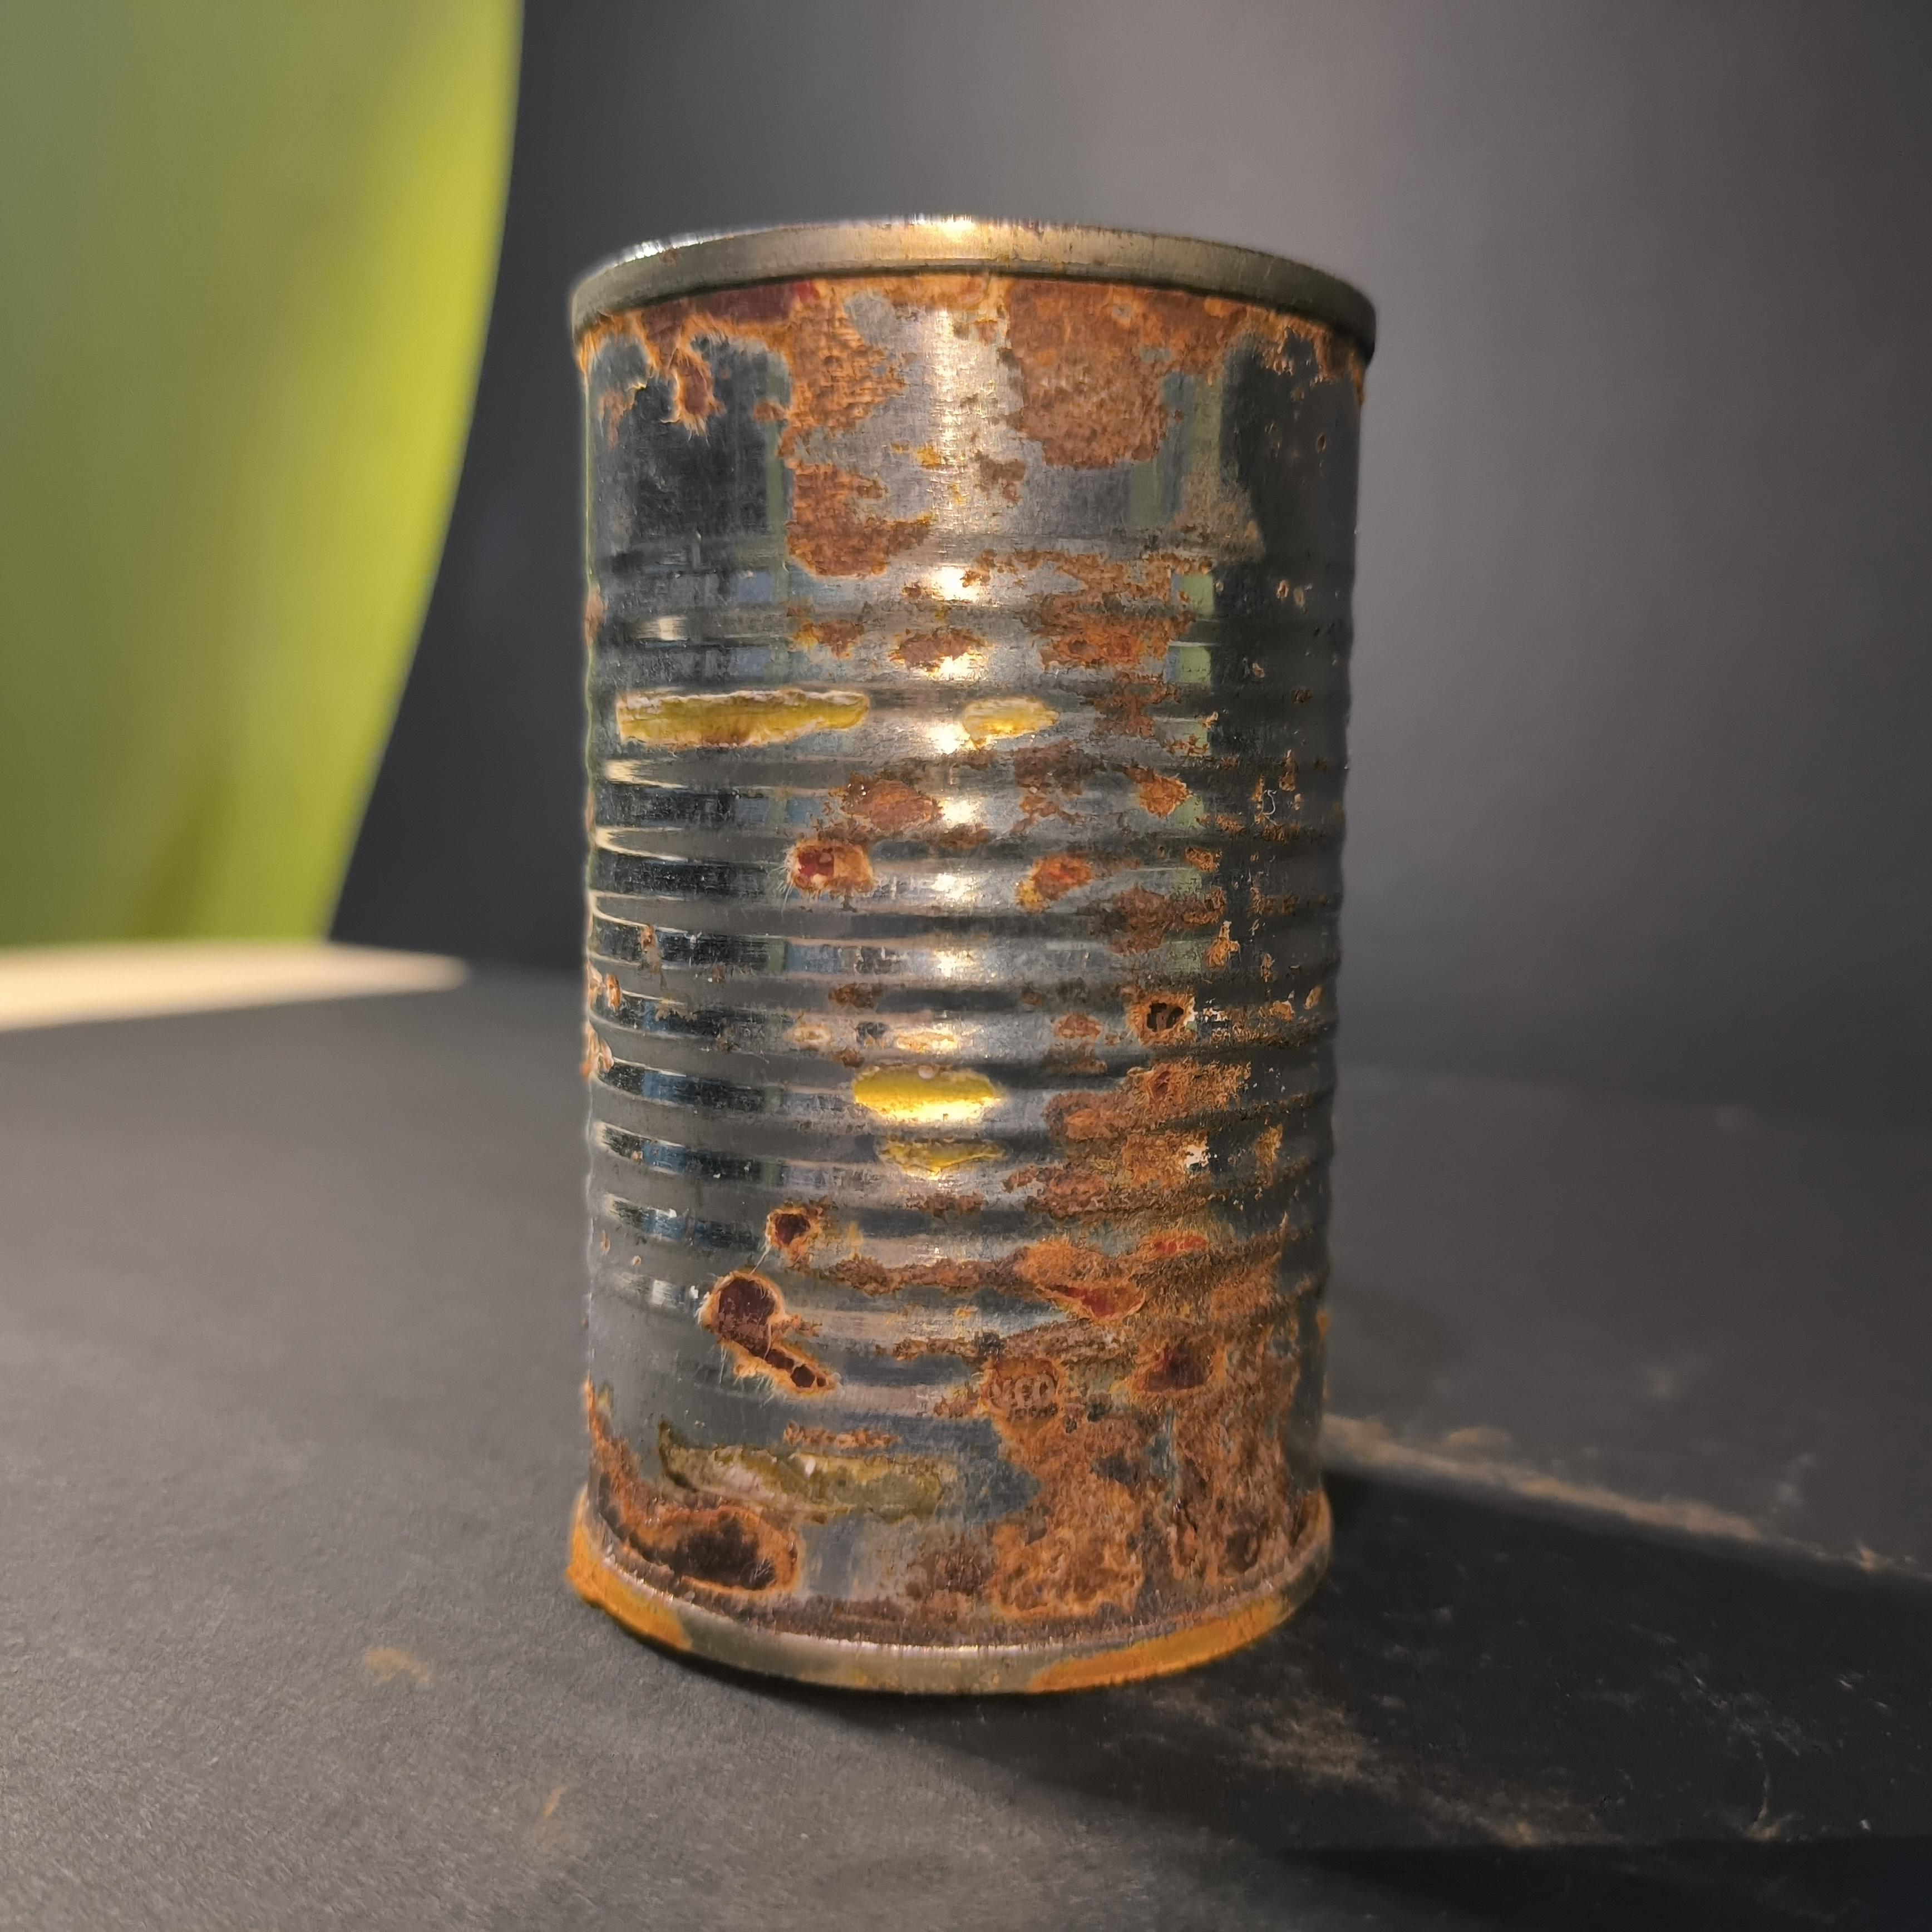Rusted: (543, 186, 1376, 1711)
